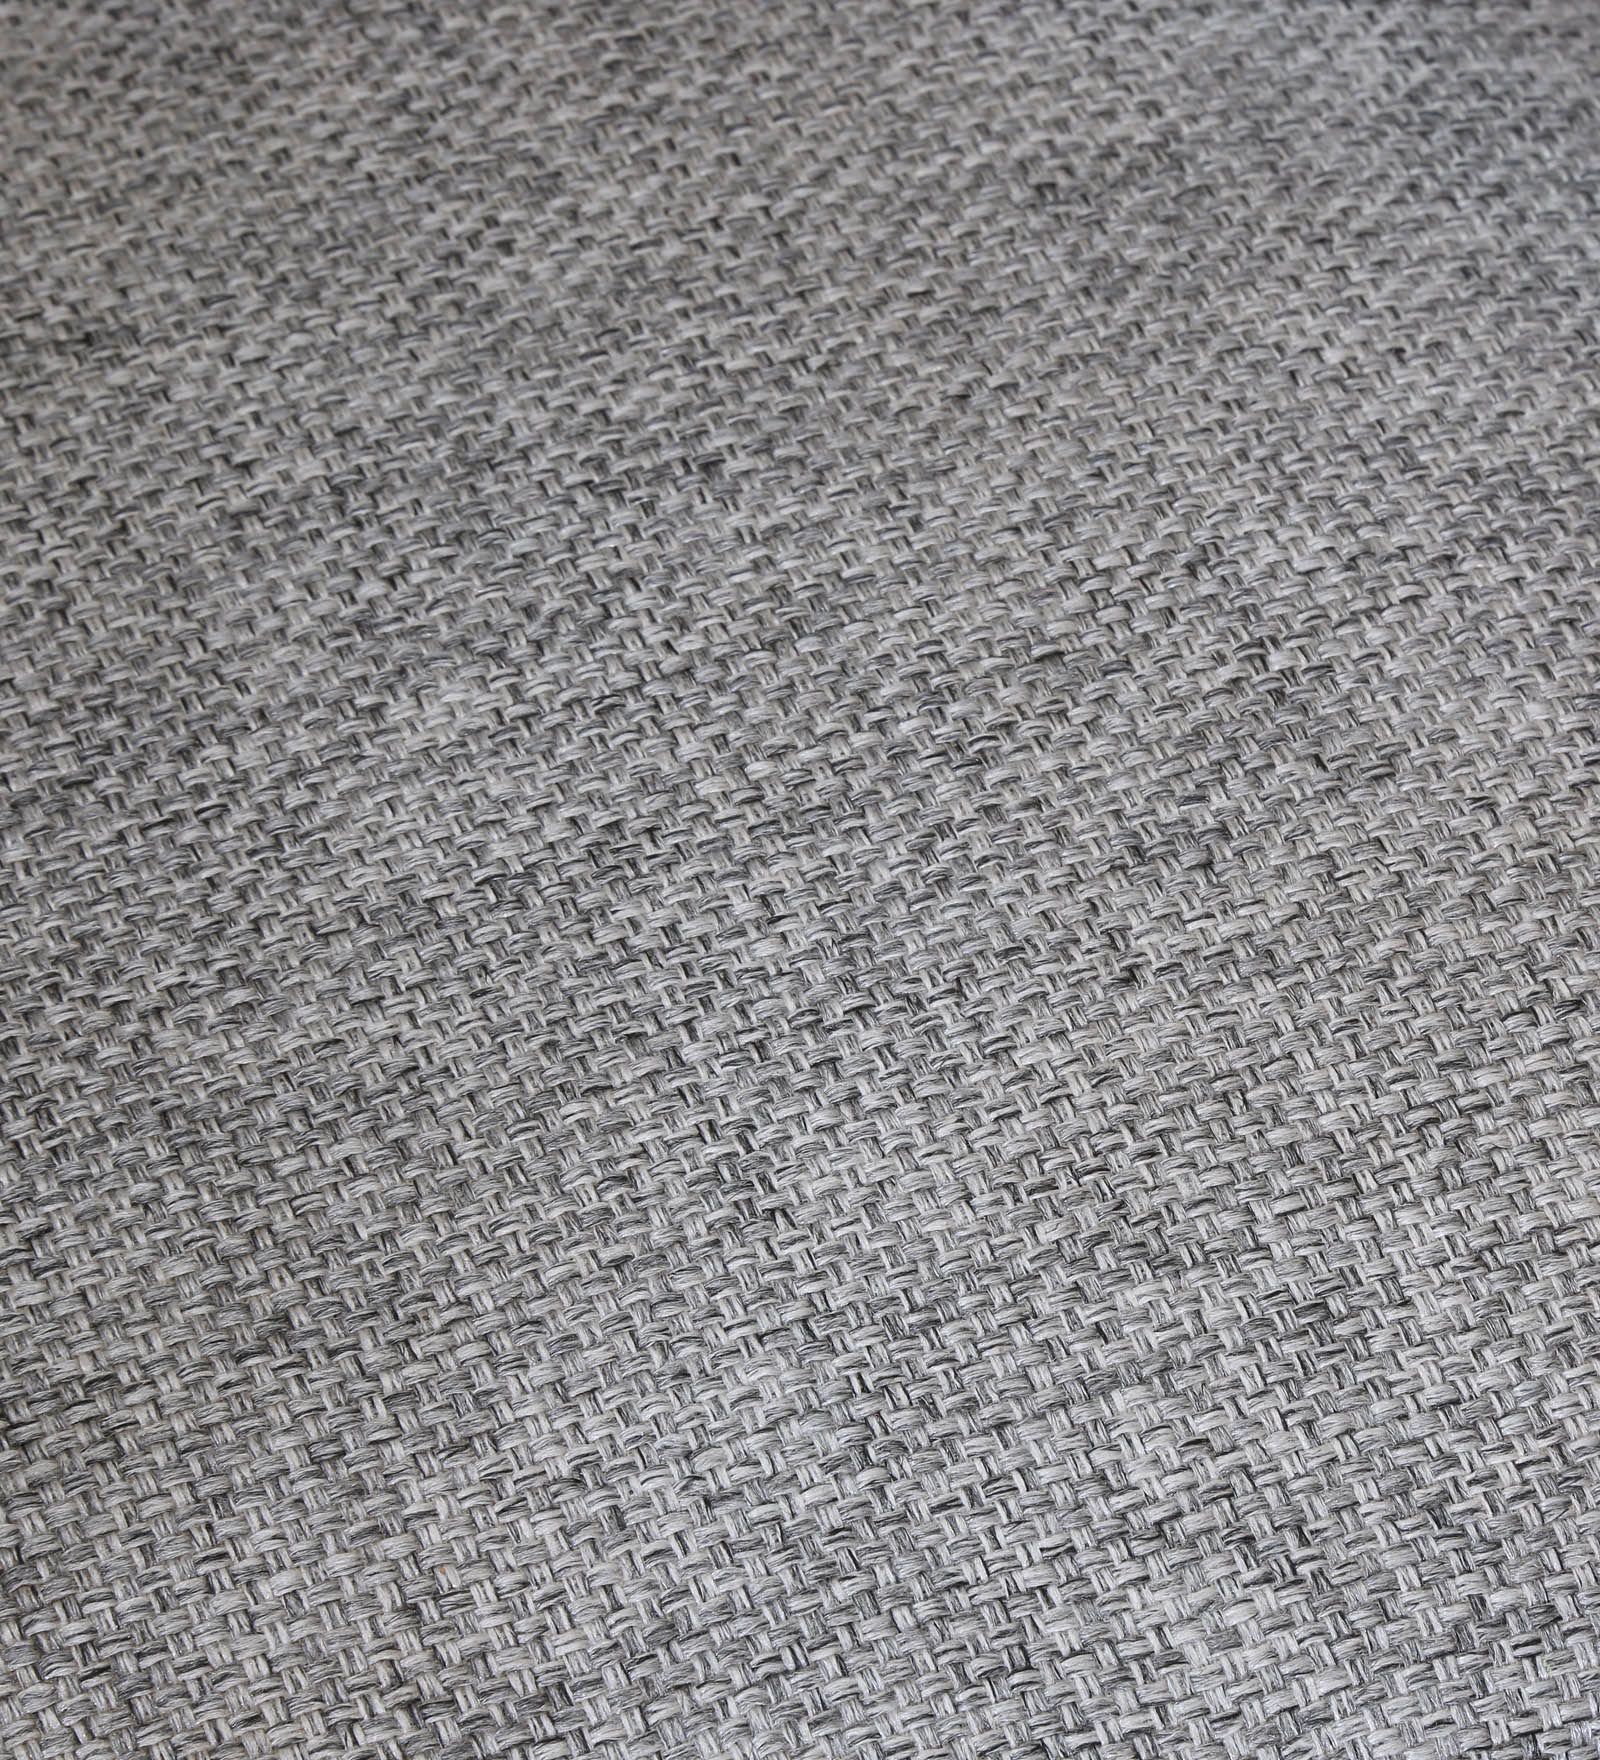Stalley Arm Chair in Grey Color with Honey Oak Finish by Amberville: (123, 231, 1418, 1673)
